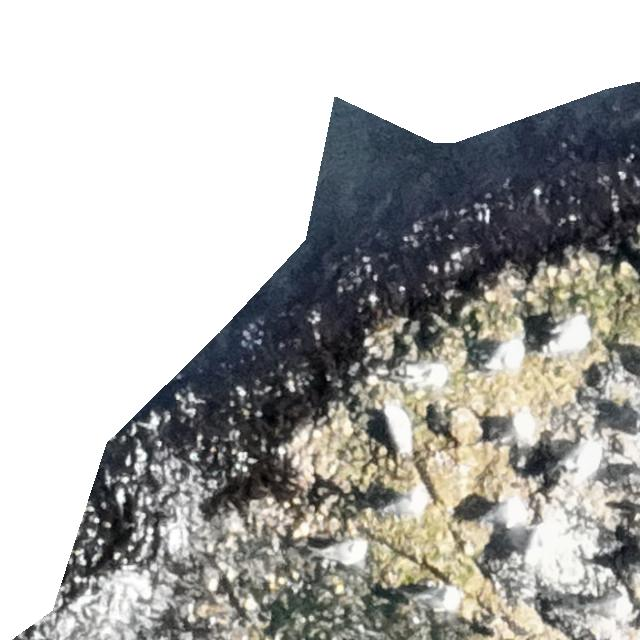umineko: (384, 404, 412, 457), (312, 542, 366, 568), (384, 489, 426, 521), (483, 502, 527, 531), (410, 588, 460, 613), (392, 366, 446, 389), (555, 319, 586, 358), (569, 442, 603, 476), (488, 341, 522, 374), (584, 599, 633, 621), (508, 414, 534, 439)
